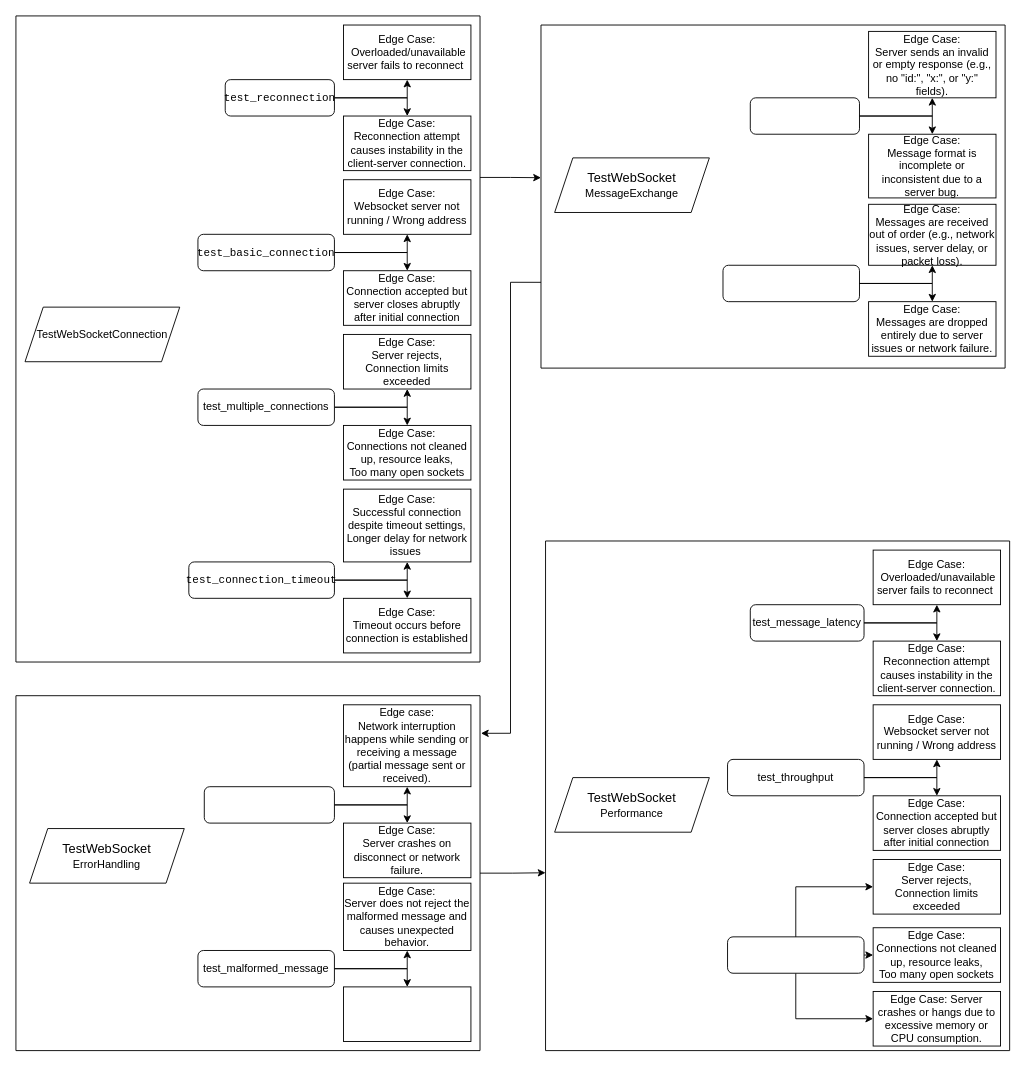
The diagram is 1026 pixels wide and 1067 high, and some of its shapes have lost their labels. The shapes that lost their labels are listed below. From the top down, each one's centre as x and y in pixels, then its label:
At pixel 804 115: "test_message_format".
At pixel 790 283: "test_message_order".
At pixel 268 804: "test_network_interruption".
At pixel 795 954: "test_cpu_memory_usage".
At pixel 407 1013: "Edge Case: Malformed message leads to server or client crash.".
